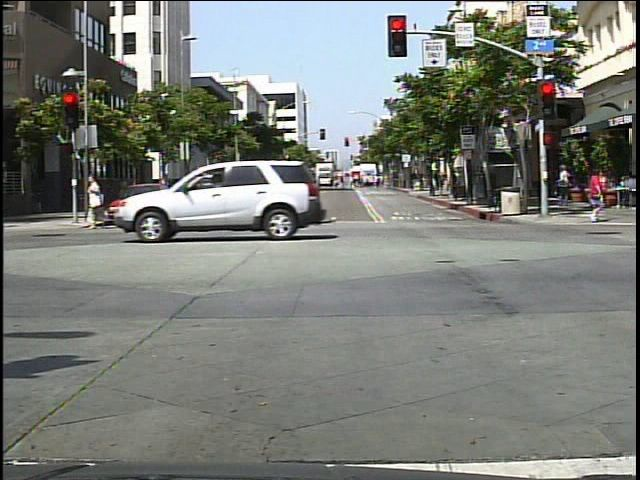person: (83, 172, 115, 236), (582, 169, 610, 228), (554, 161, 574, 211)
